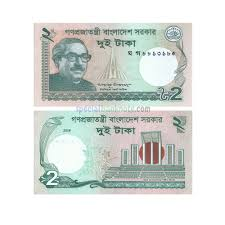2_taka: (38, 115, 190, 188), (42, 26, 186, 101)
